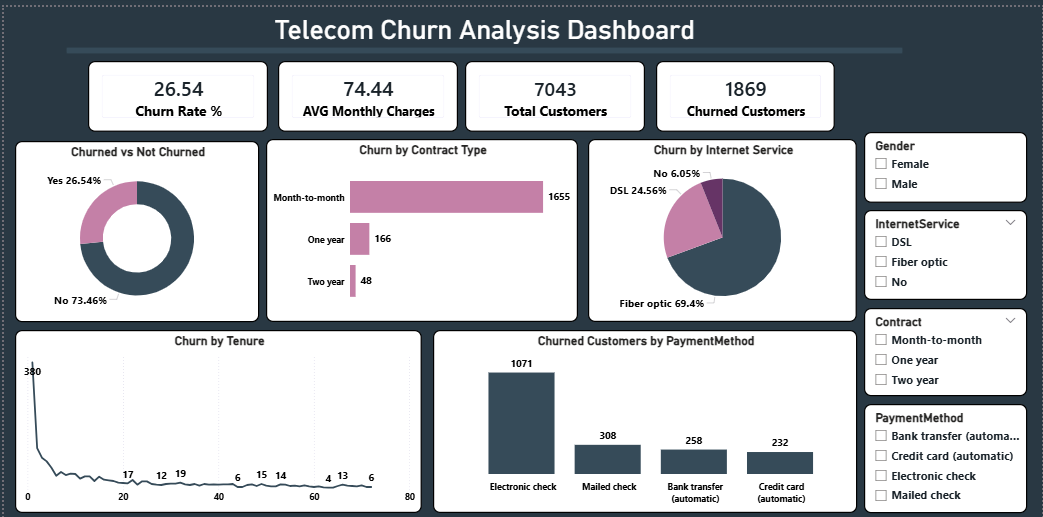

The page's visual inventory and layout, read from the dashboard file:
{"tool":"powerbi","page":{"name":"Page 1","canvas":[1730,854],"ordinal":0},"visuals":[{"type":"cardVisual","fields":{"Data":["CountNonNull(Telco-Customer-Churn-Cleaned.customerID)"]},"box":[768.3,90,300,118.3],"z":0},{"type":"cardVisual","fields":{"Data":["Telco-Customer-Churn-Cleaned.Churn Rate %"]},"box":[140,90,300,118.3],"z":1000},{"type":"clusteredBarChart","title":"Churn by Contract Type","fields":{"Category":["Telco-Customer-Churn-Cleaned.Contract"],"Y":["Telco-Customer-Churn-Cleaned.Churned Customers"],"Series":["Telco-Customer-Churn-Cleaned.Churn"]},"box":[436.7,220,520,305],"z":2000},{"type":"clusteredColumnChart","fields":{"Category":["Telco-Customer-Churn-Cleaned.PaymentMethod"],"Y":["Telco-Customer-Churn-Cleaned.Churned Customers"]},"box":[715,538.3,706.7,305],"z":3000},{"type":"pieChart","title":"Churn by Internet Service","fields":{"Category":["Telco-Customer-Churn-Cleaned.InternetService"],"Y":["Telco-Customer-Churn-Cleaned.Churned Customers"]},"box":[973.3,220,448.3,305],"z":4000},{"type":"lineChart","title":"Churn by Tenure","fields":{"Y":["Telco-Customer-Churn-Cleaned.Churned Customers"],"Category":["Telco-Customer-Churn-Cleaned.tenure"]},"box":[18.3,538.3,678.3,305],"z":5000},{"type":"cardVisual","fields":{"Data":["Telco-Customer-Churn-Cleaned.Avg Monthly Charges Churned"]},"box":[456.7,90,300,118.3],"z":6000},{"type":"shape","title":"Telecom Churn Analysis Dashboard ","box":[103.3,11.7,1395,66.7],"z":7000},{"type":"slicer","fields":{"Values":["Telco-Customer-Churn-Cleaned.gender"]},"box":[1433.3,208.3,271.7,118.3],"z":8000},{"type":"slicer","fields":{"Values":["Telco-Customer-Churn-Cleaned.InternetService"]},"box":[1433.3,338.3,271.7,150],"z":9000},{"type":"slicer","fields":{"Values":["Telco-Customer-Churn-Cleaned.Contract"]},"box":[1433.3,501.7,271.7,146.7],"z":10000},{"type":"slicer","fields":{"Values":["Telco-Customer-Churn-Cleaned.PaymentMethod"]},"box":[1433.3,661.7,271.7,181.7],"z":11000},{"type":"cardVisual","fields":{"Data":["Telco-Customer-Churn-Cleaned.Churned Customers"]},"box":[1086.7,90,298.3,118.3],"z":12000},{"type":"donutChart","title":"Churned vs Not Churned","fields":{"Y":["CountNonNull(Telco-Customer-Churn-Cleaned.customerID)"],"Category":["Telco-Customer-Churn-Cleaned.Churn"]},"box":[18.3,223.3,406.7,301.7],"z":12001}]}

Visuals, with their boxes in screenshot pixels (x1, y1, x2, y2), scaled from the page's 1730x854 canvas onto the 1043x517 screenshot:
cardVisual - CountNonNull(Telco-Customer-Churn-Cleaned.customerID): [x1=463, y1=54, x2=644, y2=126]
cardVisual - Telco-Customer-Churn-Cleaned.Churn Rate %: [x1=84, y1=54, x2=265, y2=126]
"Churn by Contract Type" clusteredBarChart: [x1=263, y1=133, x2=577, y2=318]
clusteredColumnChart - Telco-Customer-Churn-Cleaned.PaymentMethod x Telco-Customer-Churn-Cleaned.Churned Customers: [x1=431, y1=326, x2=857, y2=511]
"Churn by Internet Service" pieChart: [x1=587, y1=133, x2=857, y2=318]
"Churn by Tenure" lineChart: [x1=11, y1=326, x2=420, y2=511]
cardVisual - Telco-Customer-Churn-Cleaned.Avg Monthly Charges Churned: [x1=275, y1=54, x2=456, y2=126]
"Telecom Churn Analysis Dashboard " shape: [x1=62, y1=7, x2=903, y2=47]
slicer - Telco-Customer-Churn-Cleaned.gender: [x1=864, y1=126, x2=1028, y2=198]
slicer - Telco-Customer-Churn-Cleaned.InternetService: [x1=864, y1=205, x2=1028, y2=296]
slicer - Telco-Customer-Churn-Cleaned.Contract: [x1=864, y1=304, x2=1028, y2=393]
slicer - Telco-Customer-Churn-Cleaned.PaymentMethod: [x1=864, y1=401, x2=1028, y2=511]
cardVisual - Telco-Customer-Churn-Cleaned.Churned Customers: [x1=655, y1=54, x2=835, y2=126]
"Churned vs Not Churned" donutChart: [x1=11, y1=135, x2=256, y2=318]
